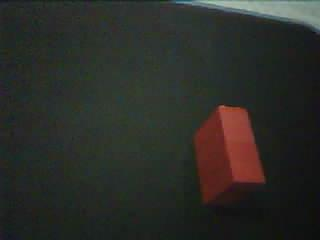lego: (190, 103, 267, 204)
